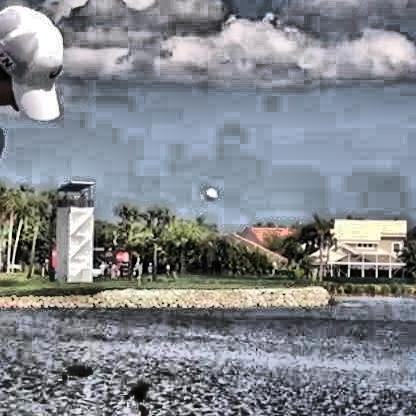golfball: (202, 184, 219, 203)
